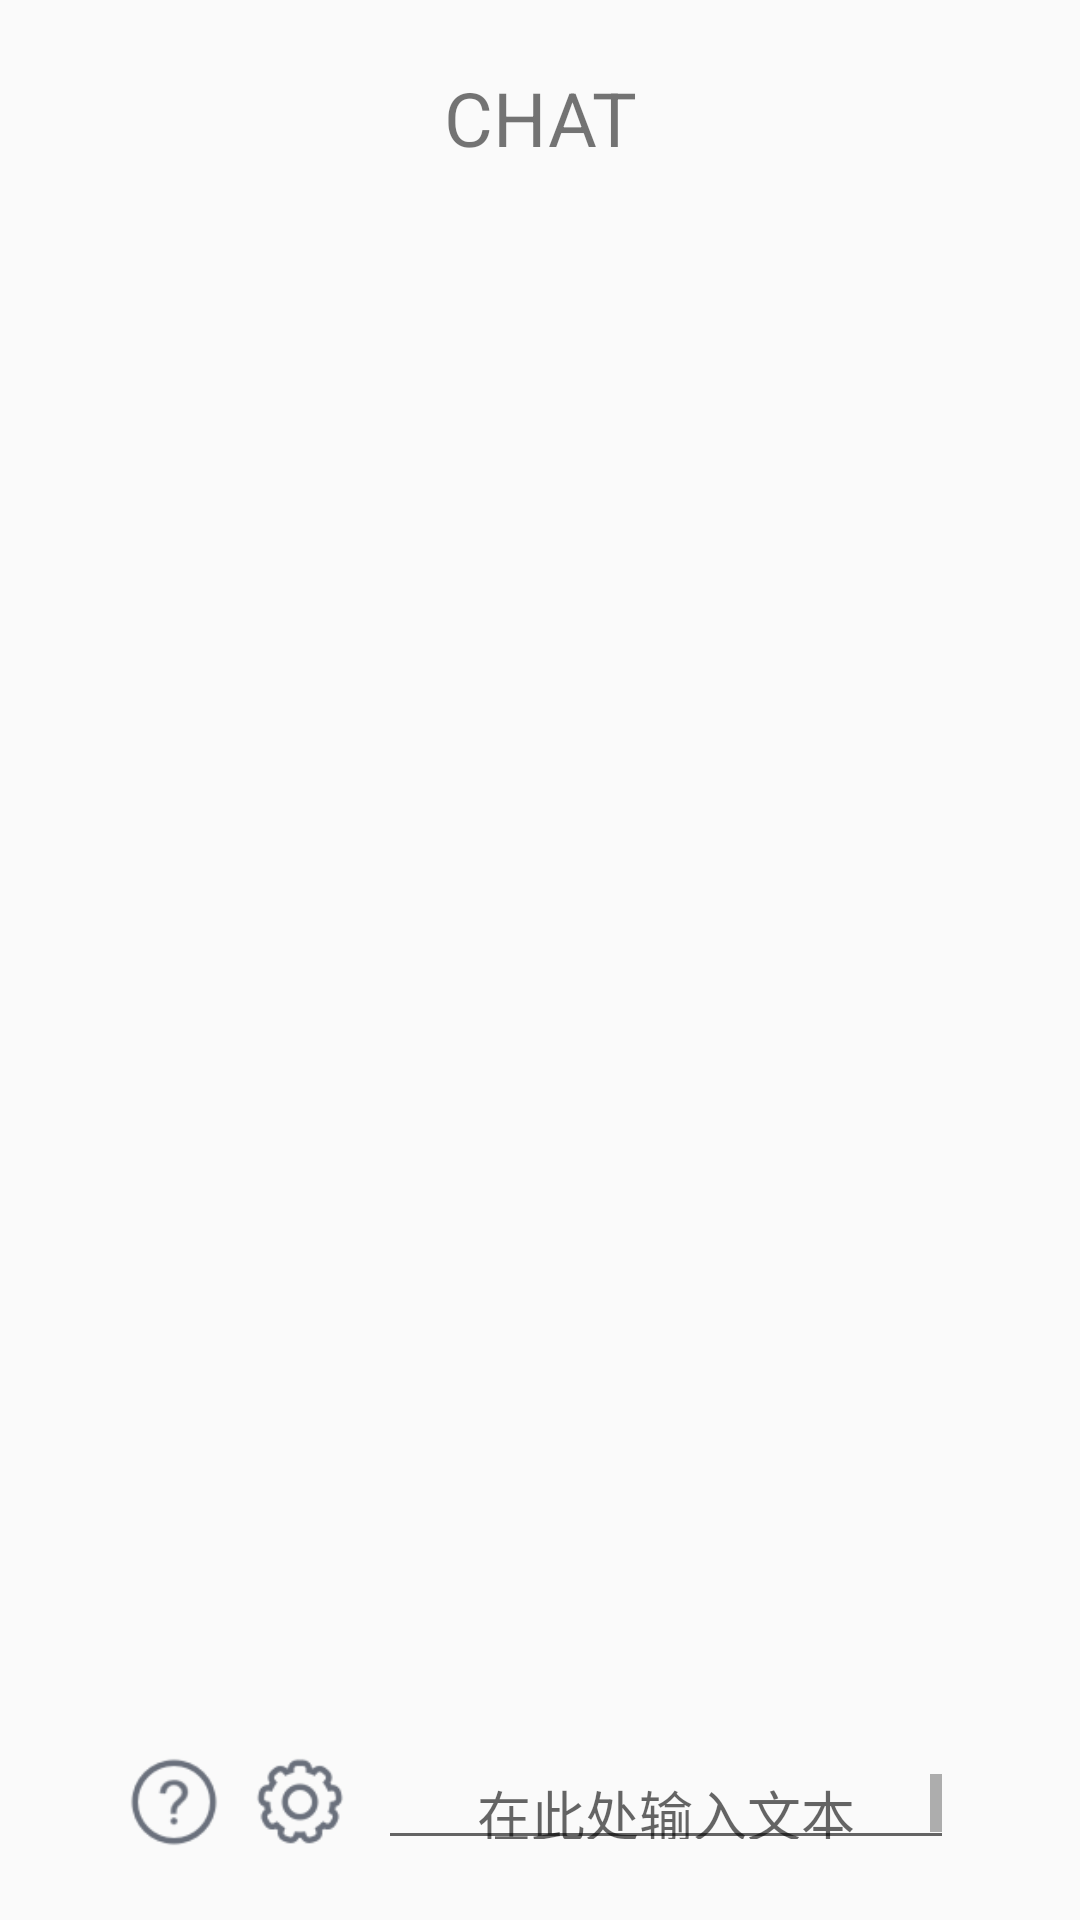

Where to tap for icons on this 1080px×1920px app screen, as point (x, y):
config: point (300, 1801)
help: point (174, 1802)
